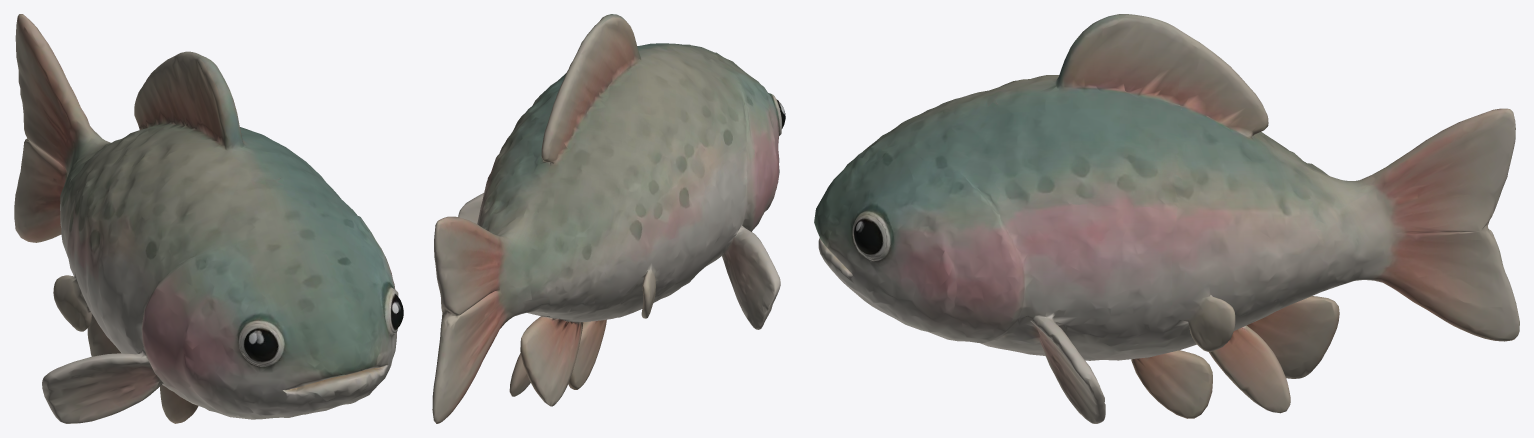
The model's file is nat_fish_catfish_v1.glb.
3 renders of one model, left to right at view 1: azimuth 30°, elevation 25°; view 2: azimuth 150°, elevation 25°; view 3: azimuth 270°, elevation 25°, orthographic. The views are drawn at different scales.
Visible parts, largest first — view 1: tripo_node_e0339edc-d259-4ab0-8c64-d731cdec599c; view 2: tripo_node_e0339edc-d259-4ab0-8c64-d731cdec599c; view 3: tripo_node_e0339edc-d259-4ab0-8c64-d731cdec599c.
Part boxes in pixels (x1=…): tripo_node_e0339edc-d259-4ab0-8c64-d731cdec599c: x1=14, y1=14, x2=403, y2=423; tripo_node_e0339edc-d259-4ab0-8c64-d731cdec599c: x1=432, y1=14, x2=785, y2=423; tripo_node_e0339edc-d259-4ab0-8c64-d731cdec599c: x1=814, y1=14, x2=1519, y2=423.
Size of the model in its own units: 0.5871 by 0.6183 by 0.9803.
Materials: 1 (1 with a texture image).
